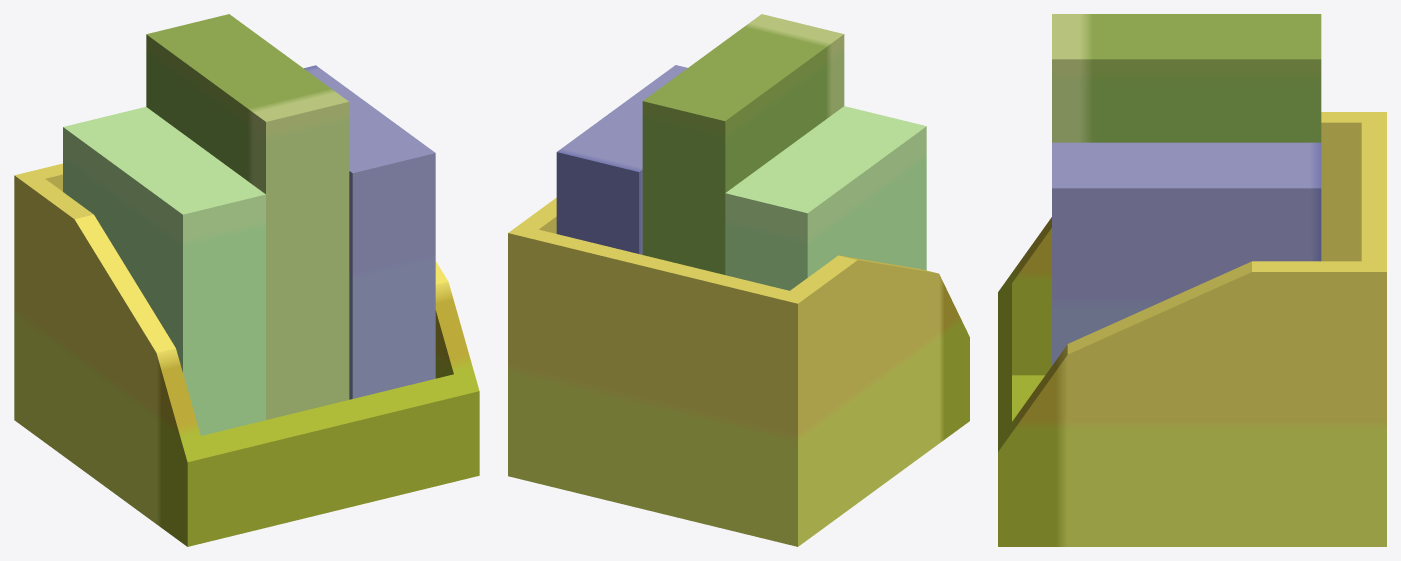
Rendered from Desk_Shelf.fbx.
The picture shows the model from 3 angles, left to right: view 1: azimuth 30°, elevation 25°; view 2: azimuth 150°, elevation 25°; view 3: azimuth 270°, elevation 25°; orthographic projection. The views are drawn at different scales.
Visible parts, largest first — view 1: Desk_Shelf; view 2: Desk_Shelf; view 3: Desk_Shelf.
Boxes of the visible parts, x1,y1,x2,y2 form: Desk_Shelf: [14, 14, 479, 546]; Desk_Shelf: [508, 14, 969, 546]; Desk_Shelf: [998, 14, 1386, 546].
Bounding box in the file's own units: 23.75 × 29.71 × 24.39.
